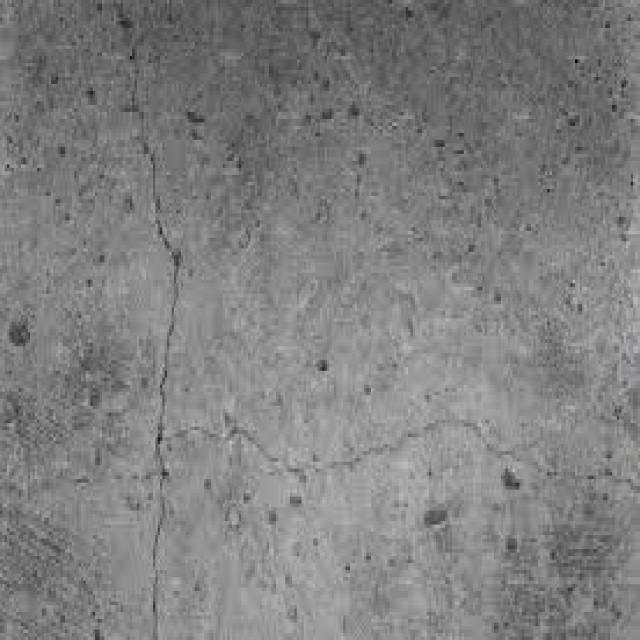crack: (119, 8, 639, 632)
